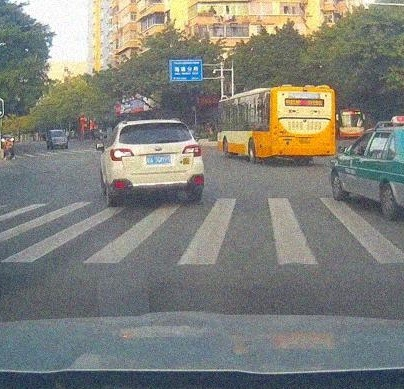L_light: (110, 148, 134, 161), (271, 124, 277, 134)
R_light: (182, 144, 202, 157), (328, 124, 335, 134)
T_light: (152, 123, 159, 127), (300, 89, 309, 92)
day-left: (108, 118, 204, 208)
day-no: (270, 84, 336, 165)
